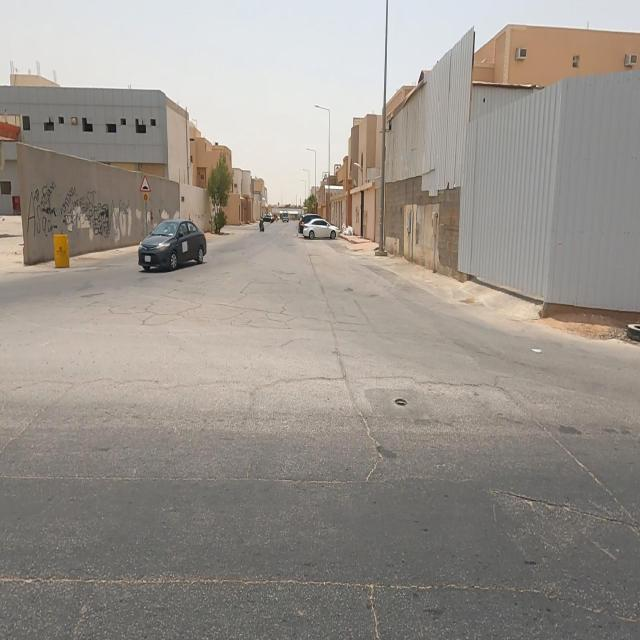Graffiti: (62, 183, 135, 244), (28, 182, 55, 240)
